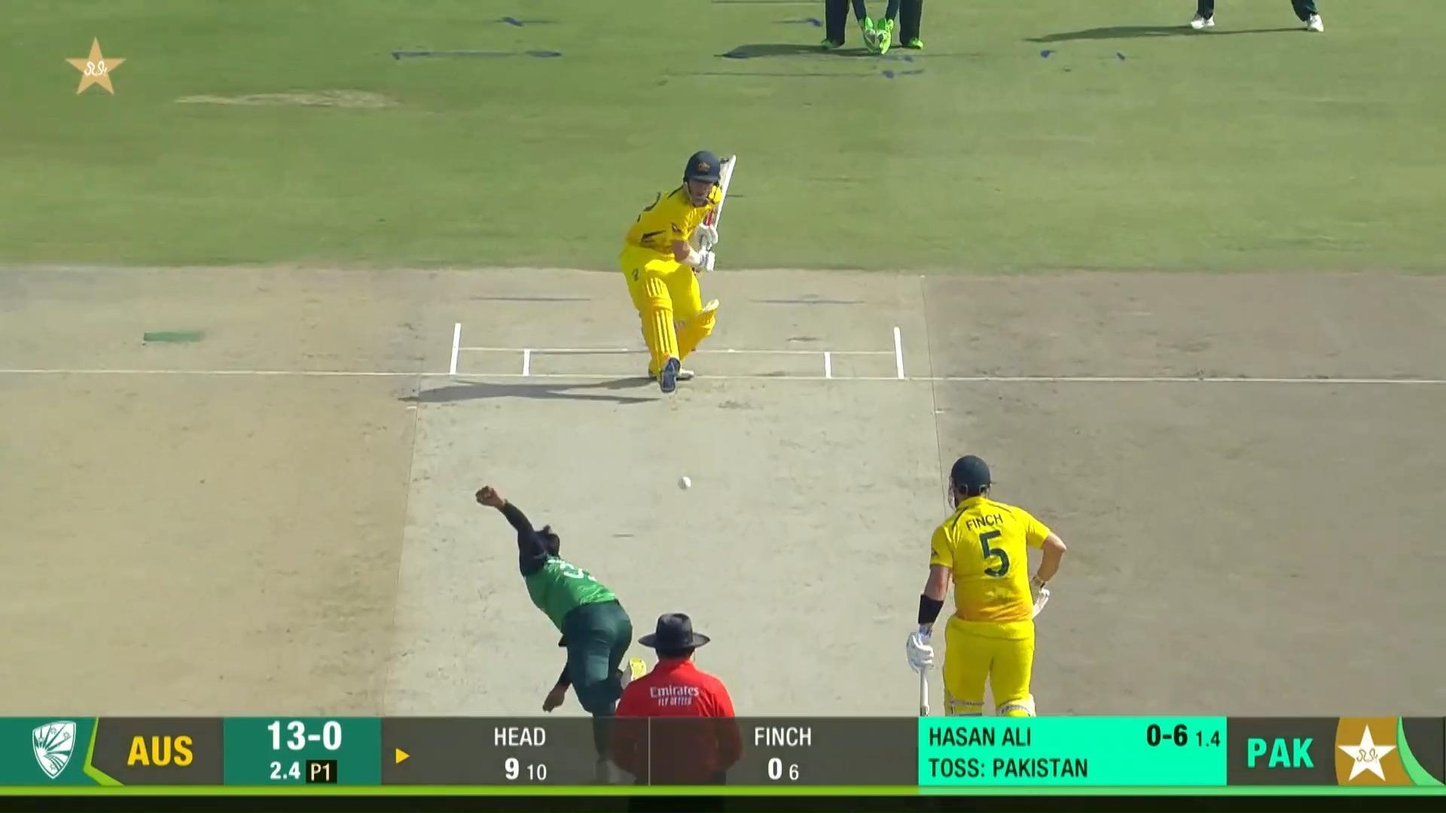BM 1: (619, 149, 737, 394)
BO: (473, 483, 649, 785)
